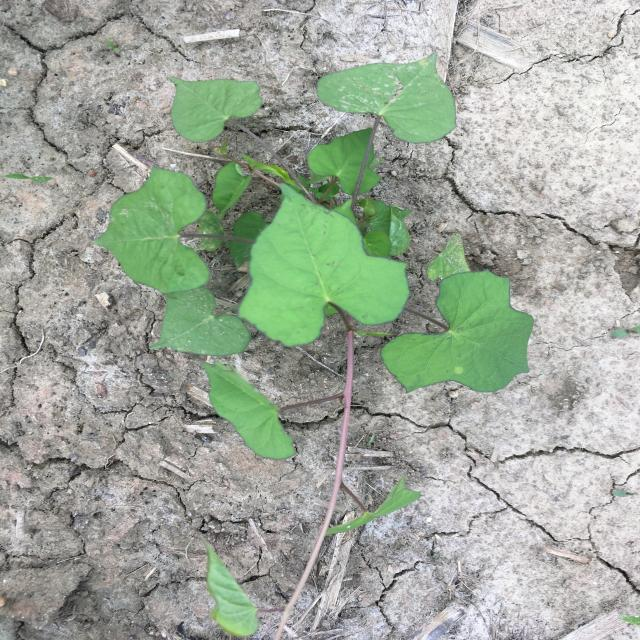MorningGlory: (92, 52, 534, 638)
